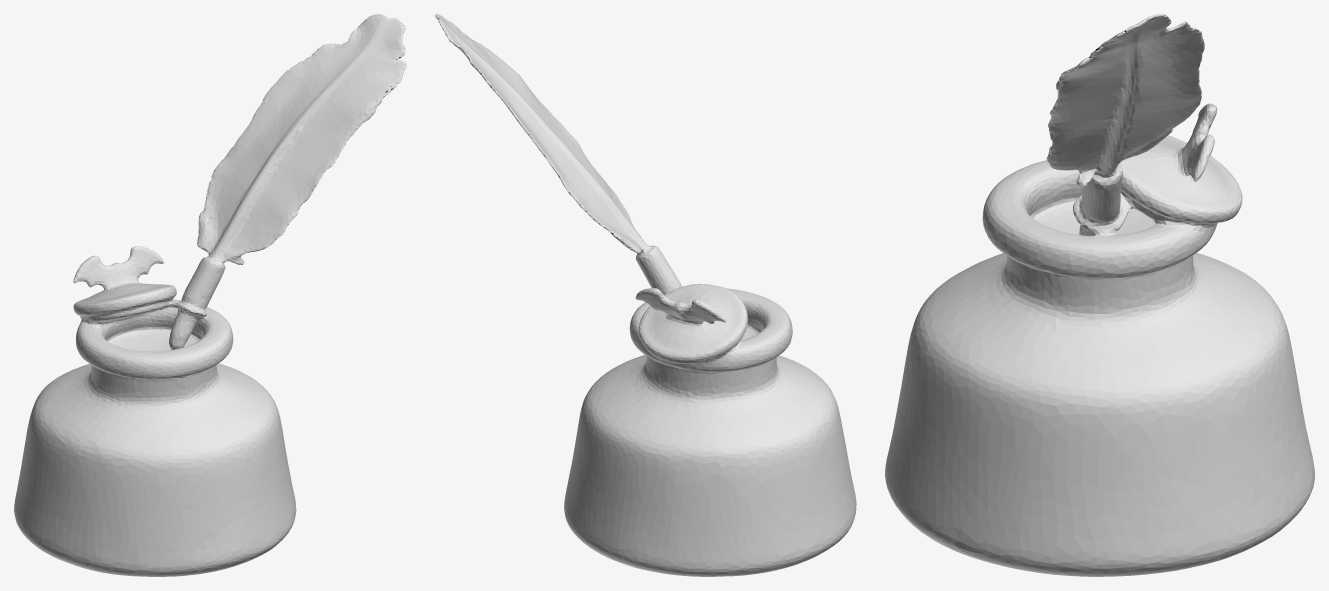
The model's file is inkwell01.glb.
3 views of the same model, side by side, from view 1: azimuth 30°, elevation 25°; view 2: azimuth 150°, elevation 25°; view 3: azimuth 270°, elevation 25° (orthographic). The views are drawn at different scales.
Parts seen in each view (by area): view 1: Low; view 2: Low; view 3: Low.
Part boxes in pixels (<box>): Low: <box>14,14,406,576</box>; Low: <box>435,14,856,576</box>; Low: <box>885,14,1314,576</box>.
Size of the model in its own units: 1.79 by 1.99 by 1.17.
Materials: 1 (1 with a texture image).
